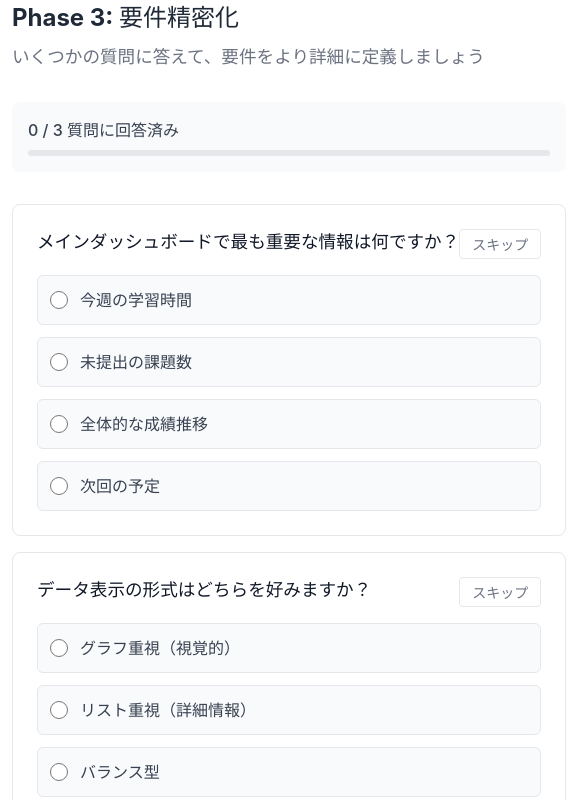
Scenario: Phase 3: インタラクティブ要件精密化 › リアルタイム仕様更新 › 回答に基づいて仕様がリアルタイムで更新される
What coordinates should you click on to do the following:
click the radio button labelled "未提出の課題数"
I would click on:
 (59, 362)
Its box is [50, 353, 68, 371].
(page scrolled)
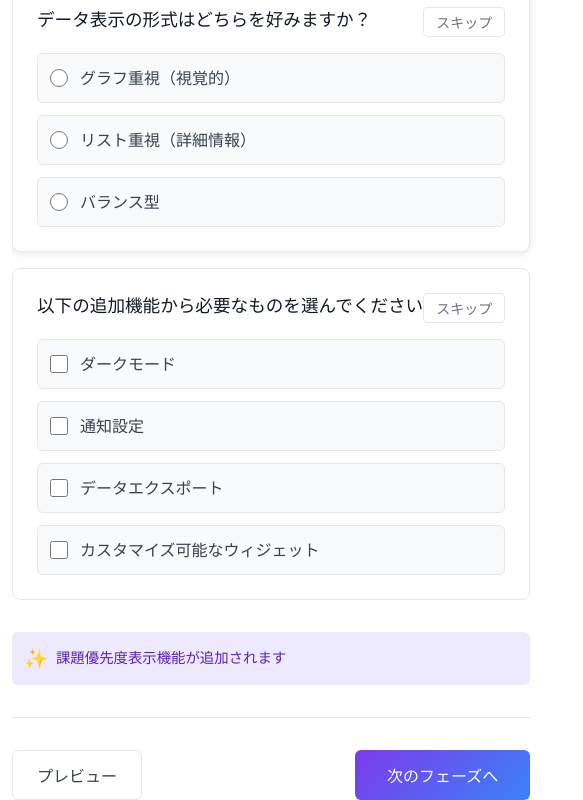
Check: the text "課題優先度表示機能が追加されます" is shown, box [56, 647, 286, 669]
